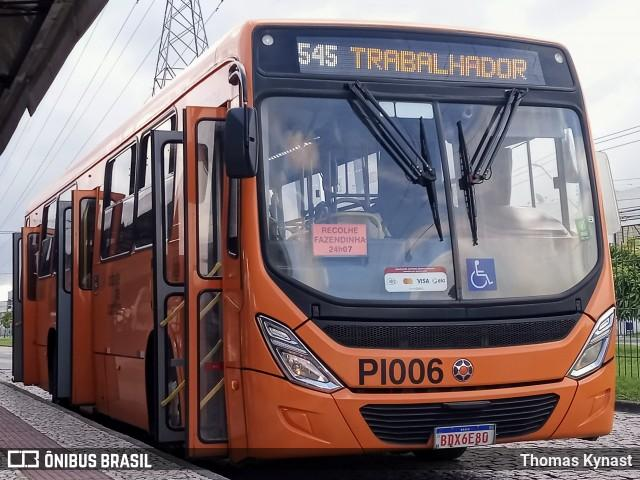TRABALHADOR: (345, 41, 531, 87)
